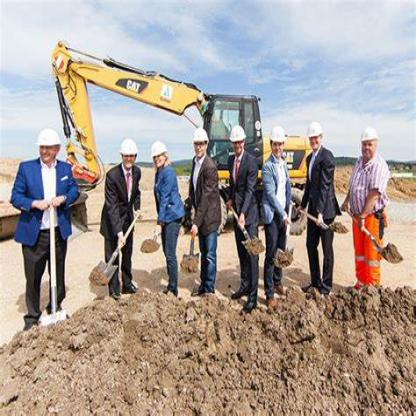person: (19, 103, 81, 305), (347, 107, 395, 293), (98, 128, 141, 322), (186, 112, 229, 304), (222, 115, 262, 319), (144, 126, 190, 299), (304, 111, 349, 284), (259, 114, 299, 284)
